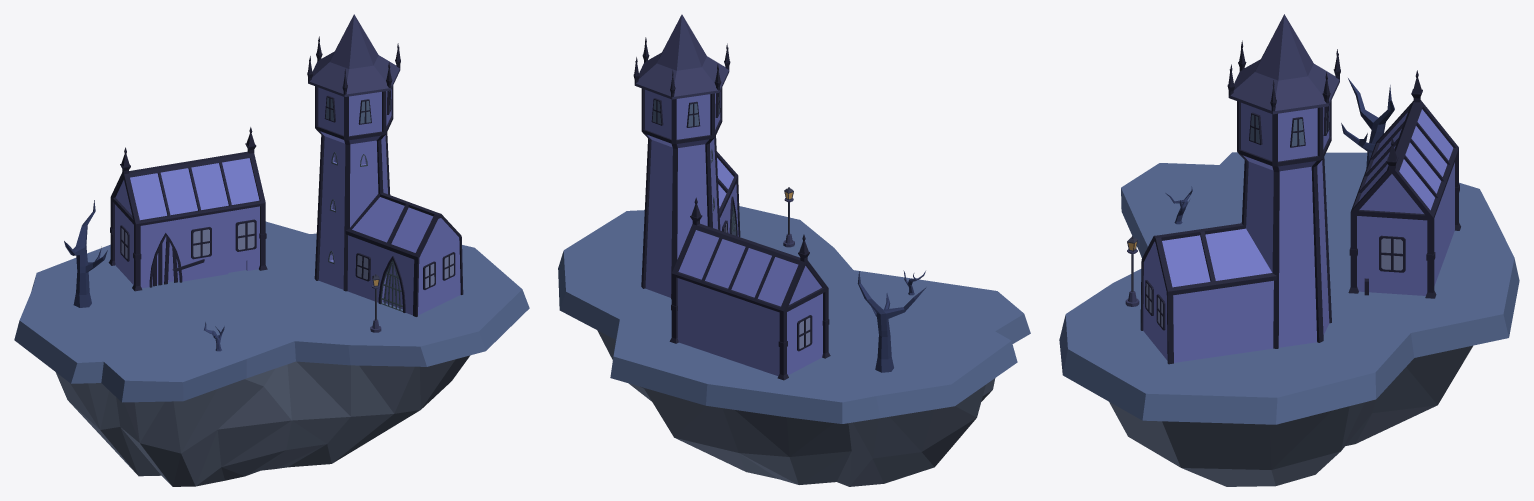
Rendered from Стартовый остров.fbx.
3 views of the same model, side by side, from view 1: azimuth 30°, elevation 25°; view 2: azimuth 150°, elevation 25°; view 3: azimuth 270°, elevation 25° (orthographic). The views are drawn at different scales.
Parts seen in each view (by area): view 1: Cube, Cylinder, Cube.002, Cube.001, Cube.003, Cylinder.006, Cube.028, Cube.022; view 2: Cube, Cylinder, Cube.002, Cube.003, Cube.001, Cylinder.006, Cube.028, Cube.017; view 3: Cube, Cylinder, Cube.002, Cube.001, Cube.003, Cylinder.006, Cube.028, Cube.017, Cube.012.
Part boxes in pixels (<box>): Cube: <box>14,221,529,486</box>; Cylinder: <box>308,14,460,315</box>; Cube.002: <box>115,158,259,288</box>; Cube.001: <box>314,86,463,316</box>; Cube.003: <box>108,127,267,291</box>; Cylinder.006: <box>64,200,107,307</box>; Cube.028: <box>324,90,391,124</box>; Cube.022: <box>381,259,402,311</box>; Cube: <box>558,206,1030,486</box>; Cylinder: <box>634,14,738,297</box>; Cube.002: <box>677,230,822,375</box>; Cube.003: <box>669,197,830,380</box>; Cube.001: <box>641,87,740,299</box>; Cylinder.006: <box>857,271,926,372</box>; Cube.028: <box>651,92,720,127</box>; Cube.017: <box>633,37,730,96</box>; Cube: <box>1059,152,1519,486</box>; Cylinder: <box>1143,14,1339,362</box>; Cube.002: <box>1357,109,1454,295</box>; Cube.001: <box>1140,100,1331,364</box>; Cube.003: <box>1348,70,1460,298</box>; Cylinder.006: <box>1341,78,1394,168</box>; Cube.028: <box>1249,106,1329,147</box>; Cube.017: <box>1227,40,1340,111</box>; Cube.012: <box>1381,238,1402,270</box>.
Bounding box in the file's own units: 893 × 813 × 688.
